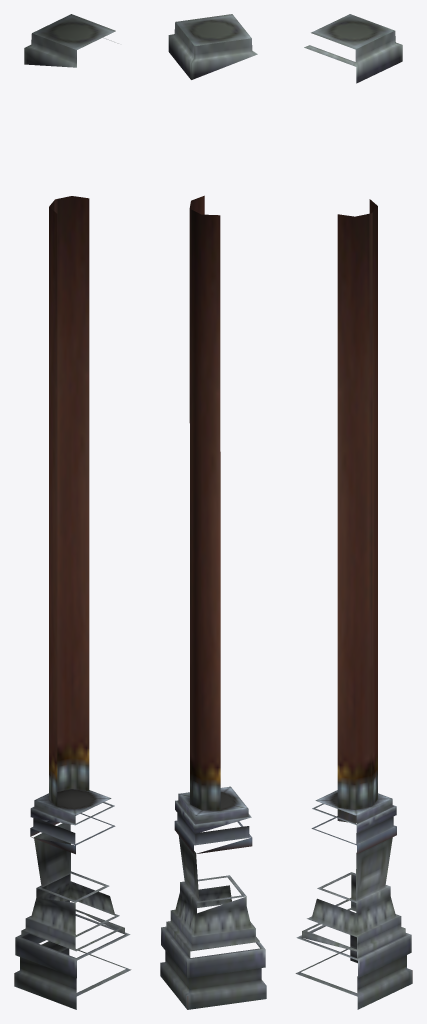
Rendered from S2_Build_XSC019_H2.FBX.
3 views of the same model, side by side, from view 1: azimuth 90°, elevation 25°; view 2: azimuth 150°, elevation 25°; view 3: azimuth 270°, elevation 25° (orthographic).
Visible parts, largest first — view 1: S2_Build_XSC019_H2; view 2: S2_Build_XSC019_H2; view 3: S2_Build_XSC019_H2.
Boxes of the visible parts, box(x1,y1,x2,y2) form: S2_Build_XSC019_H2: box(14, 14, 131, 1009); S2_Build_XSC019_H2: box(160, 14, 266, 1009); S2_Build_XSC019_H2: box(295, 14, 412, 1009).
Size of the model in its own units: 1091 by 9724 by 1086.
